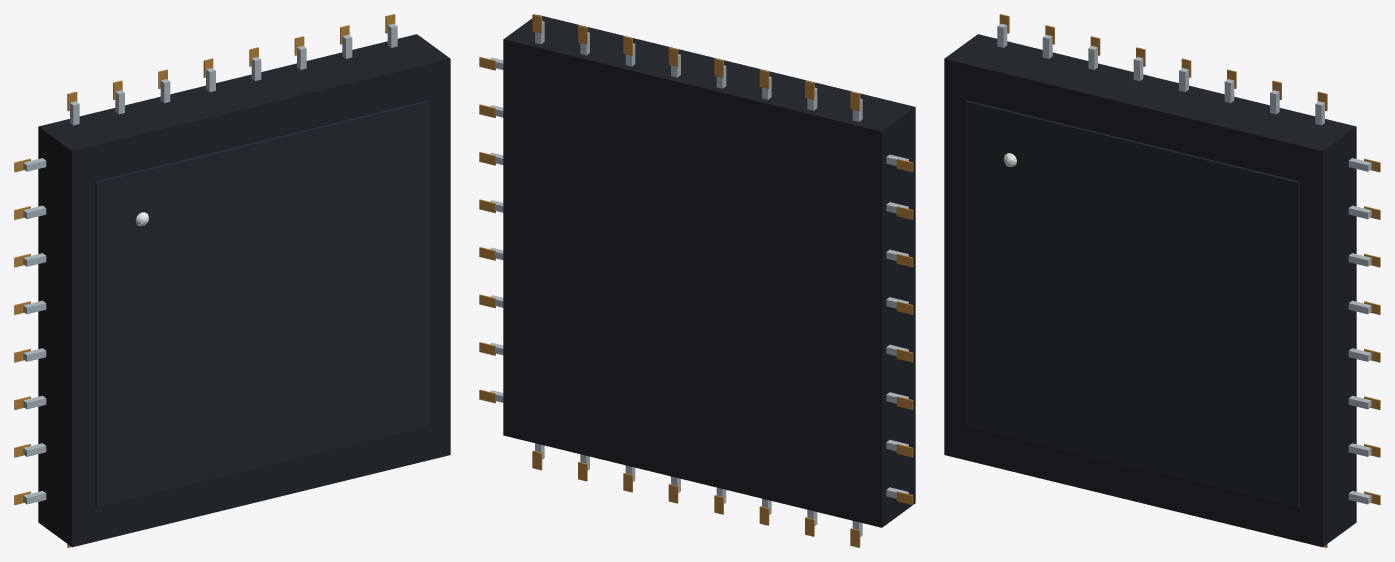
3 renders of one model, left to right at view 1: azimuth 30°, elevation 25°; view 2: azimuth 150°, elevation 25°; view 3: azimuth 330°, elevation 25°, orthographic.
Visible parts, largest first — view 1: U9; view 2: U9; view 3: U9.
Boxes of the visible parts, left/top/right/bottom form: U9: left=14, top=14, right=450, bottom=547; U9: left=479, top=14, right=915, bottom=547; U9: left=944, top=14, right=1380, bottom=547.
Bounding box in the file's own units: 0.0126 × 0.0126 × 0.00195.
